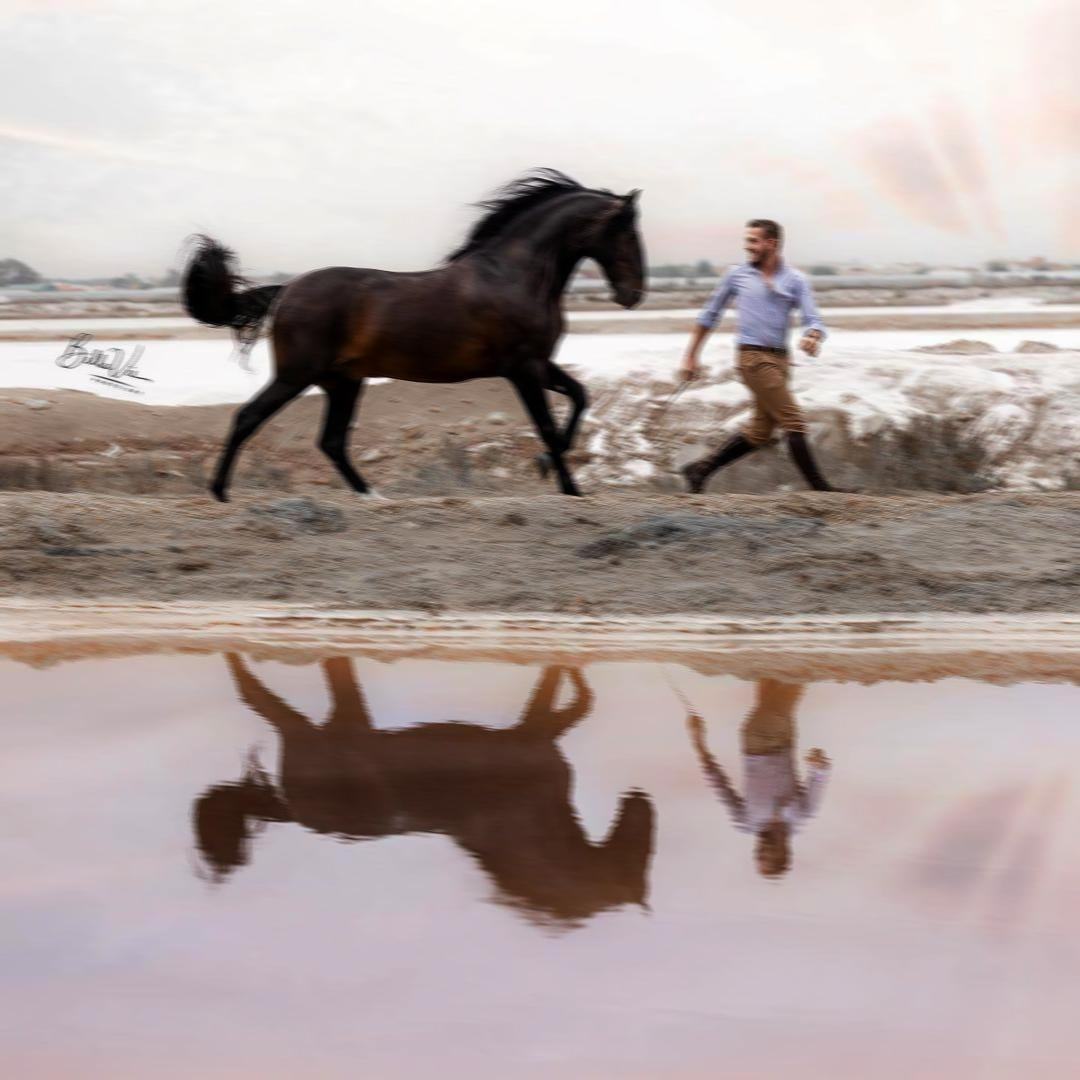horse: (176, 165, 647, 503), (188, 650, 655, 934)
